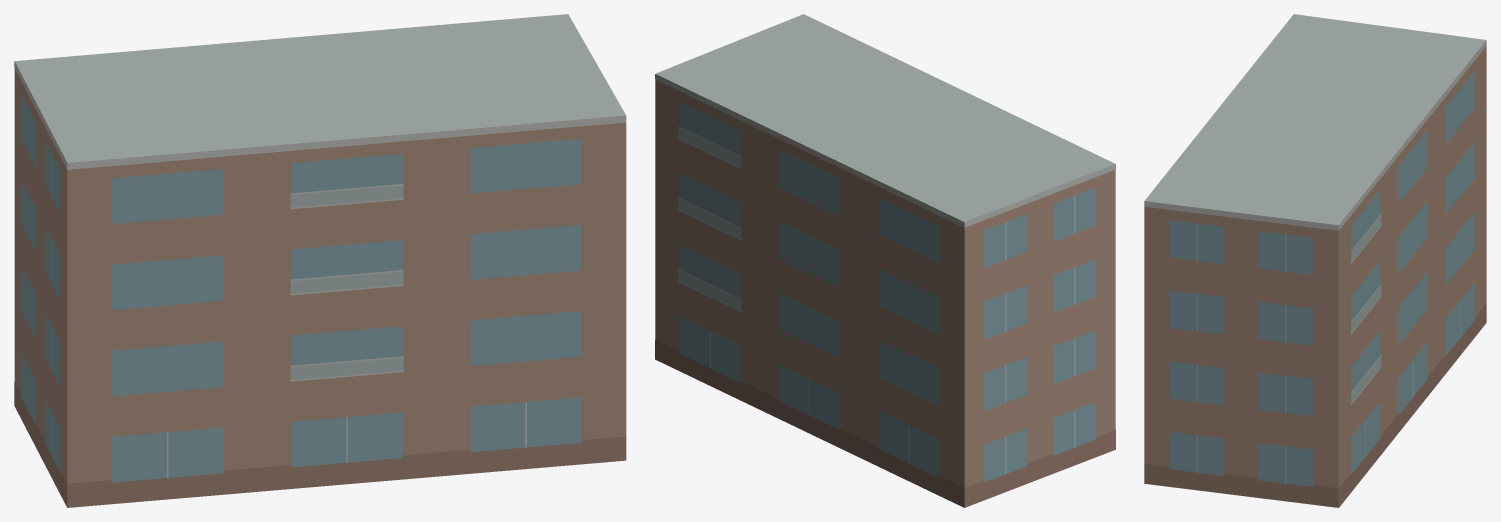
File: survey-upis-33018978.glb
The picture shows the model from 3 angles, left to right: view 1: azimuth 30°, elevation 25°; view 2: azimuth 150°, elevation 25°; view 3: azimuth 270°, elevation 25°; orthographic projection. The views are drawn at different scales.
Parts seen in each view (by area): view 1: survey-upis-33018978.tmp; view 2: survey-upis-33018978.tmp; view 3: survey-upis-33018978.tmp.
Boxes of the visible parts, bbox=[...] form: survey-upis-33018978.tmp: bbox=[14, 14, 626, 507]; survey-upis-33018978.tmp: bbox=[655, 14, 1115, 507]; survey-upis-33018978.tmp: bbox=[1144, 14, 1486, 507].
Size of the model in its own units: 19.73 by 12.3 by 13.51.
